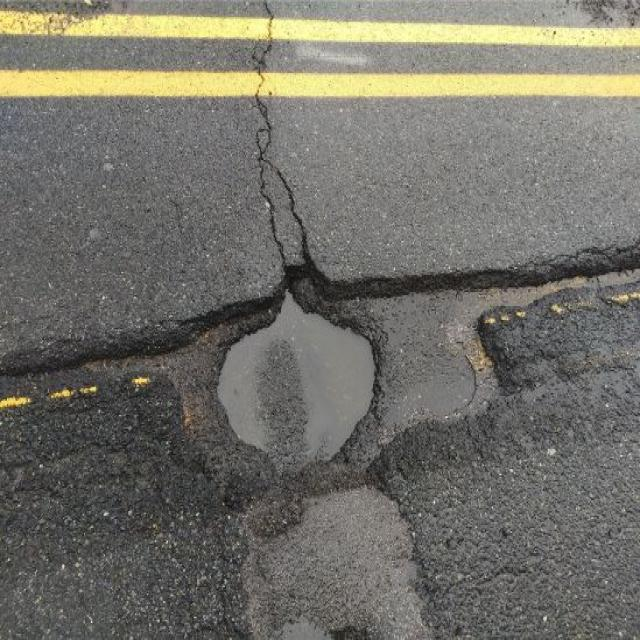pothole: (120, 255, 542, 480), (223, 478, 442, 638), (210, 280, 382, 472)
